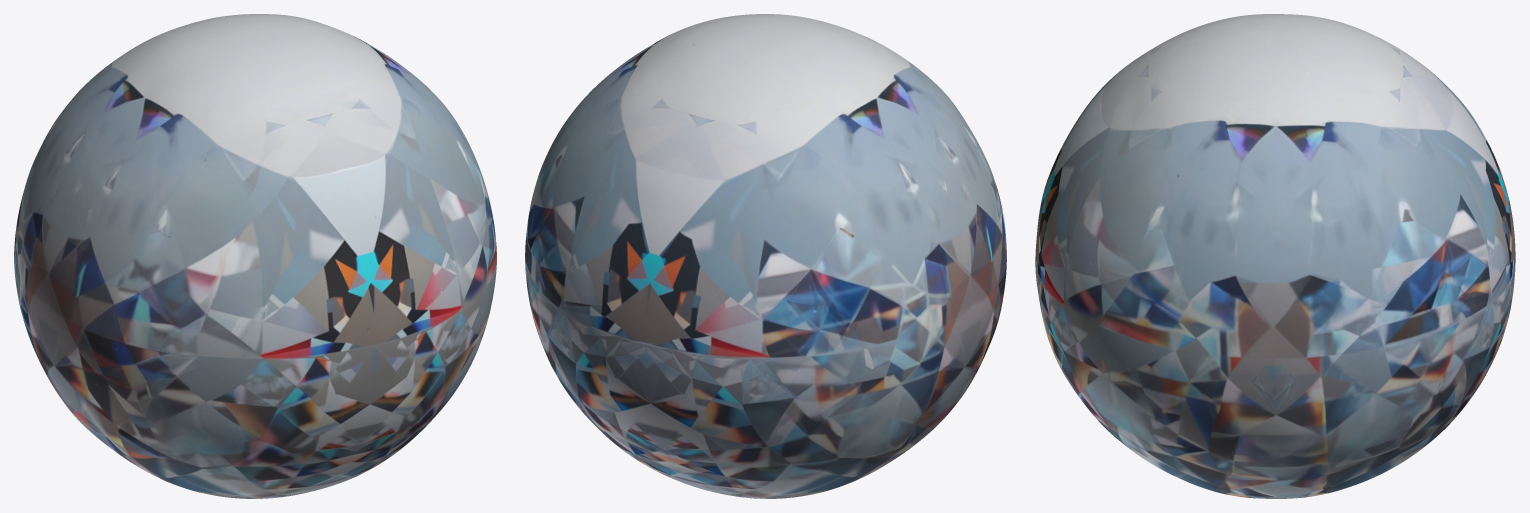
File: Boss_Orb_6_Diamond_Orb_Texture_1784483944038.glb
The picture shows the model from 3 angles, left to right: view 1: azimuth 30°, elevation 25°; view 2: azimuth 150°, elevation 25°; view 3: azimuth 270°, elevation 25°; orthographic projection.
Bounding box in the file's own units: 2 × 2 × 2.
1 material, 1 textured.
